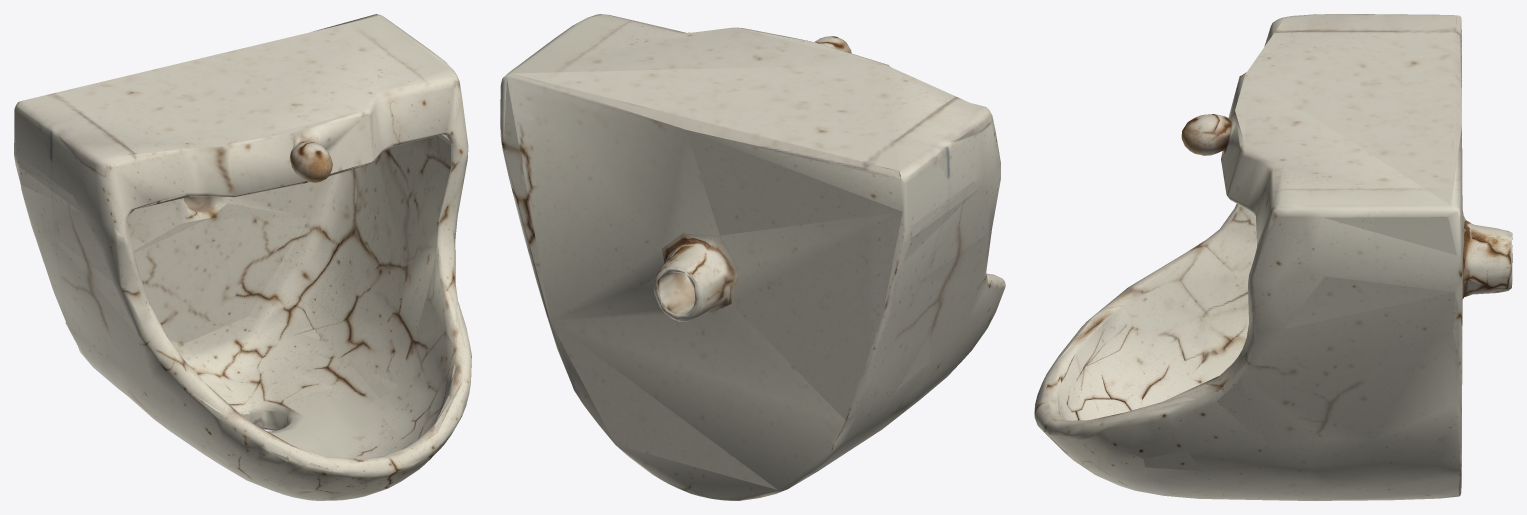
Rendered from Urinoir.fbx.
3 renders of one model, left to right at view 1: azimuth 30°, elevation 25°; view 2: azimuth 150°, elevation 25°; view 3: azimuth 270°, elevation 25°, orthographic. The views are drawn at different scales.
Visible parts, largest first — view 1: Mesh_0; view 2: Mesh_0; view 3: Mesh_0.
Part boxes in pixels (x1,y1,x2,y2): Mesh_0: (14, 14, 471, 500); Mesh_0: (500, 14, 1005, 500); Mesh_0: (1034, 14, 1512, 500).
Size of the model in its own units: 161 by 142 by 164.
Materials: 1 (1 with a texture image).
